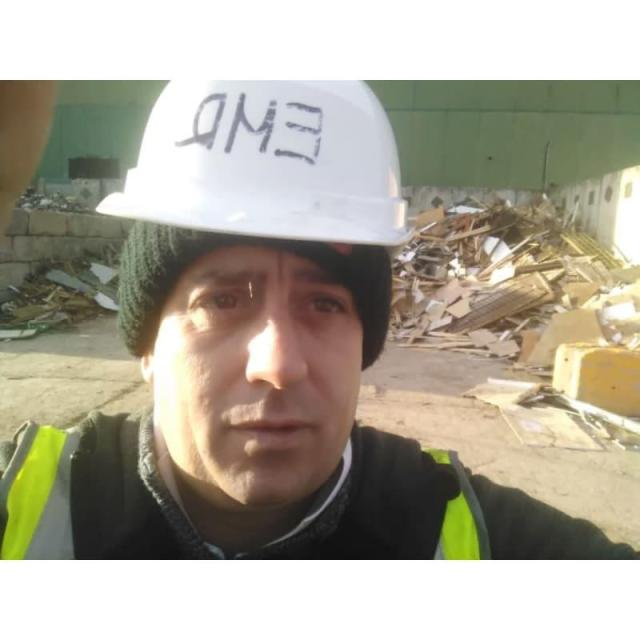helmet: (95, 82, 418, 248)
